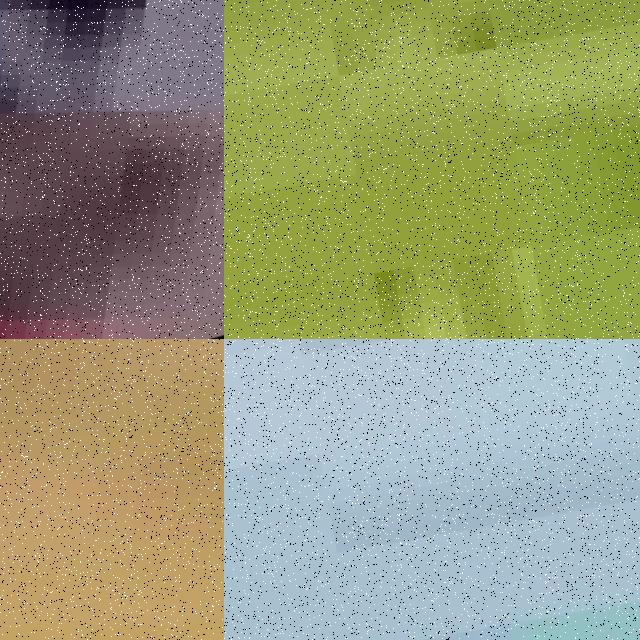0: (0, 0, 224, 339)
drone: (0, 339, 224, 640)
